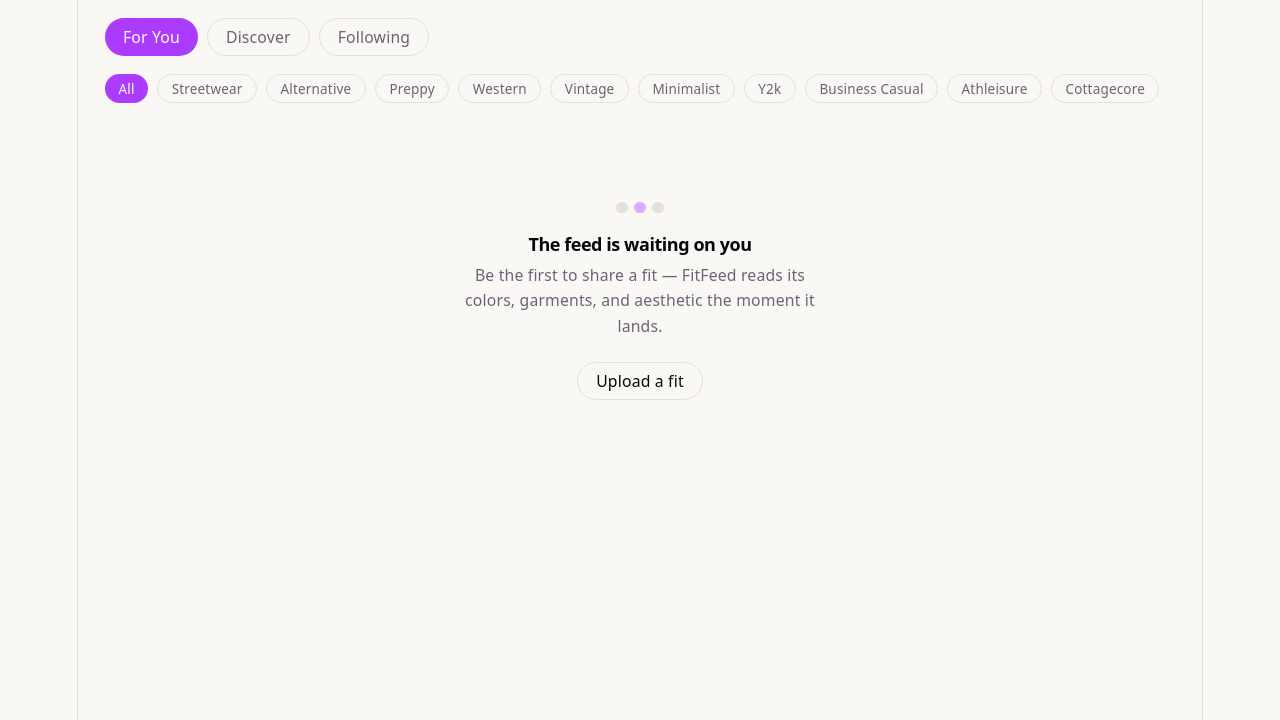
Test case: Feed empty states › shows a category-specific empty state
The width and height of the screenshot is (1280, 720).
Click the button "vintage".
click(590, 88)  # box 550,74 -> 629,103
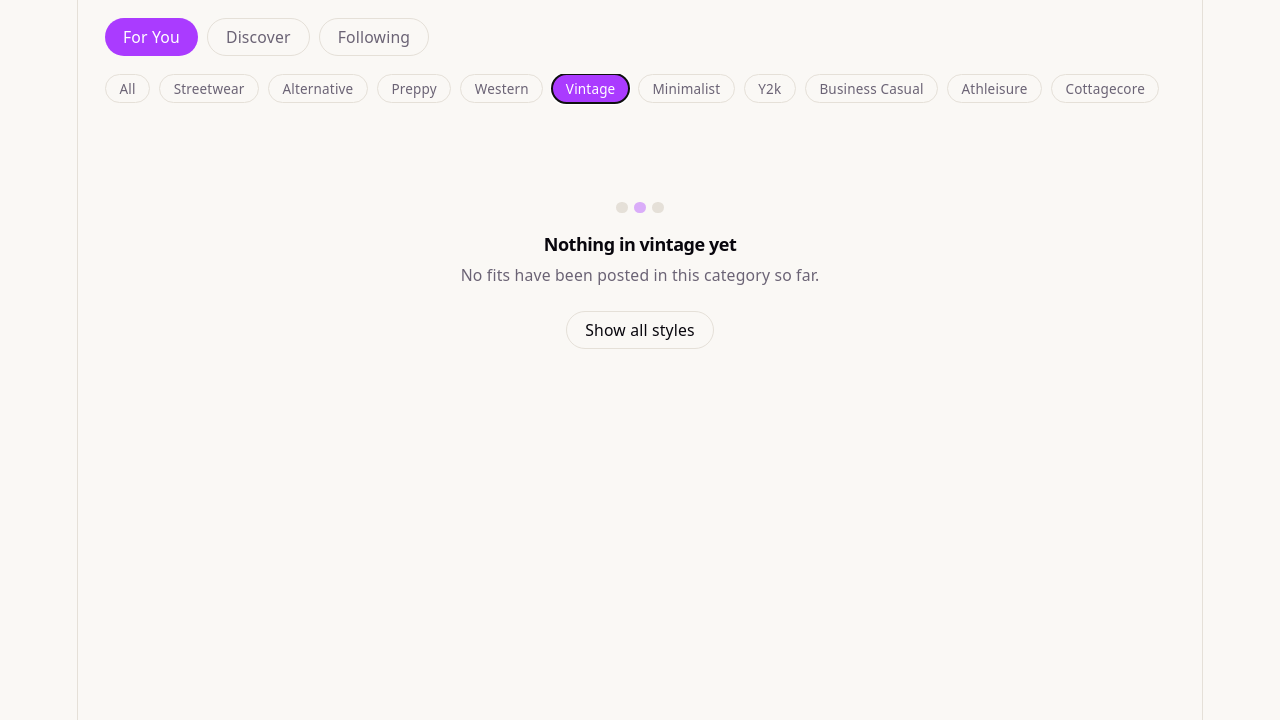
expect the heading "Nothing in vintage yet" is shown: met, box 544,231 -> 736,258
